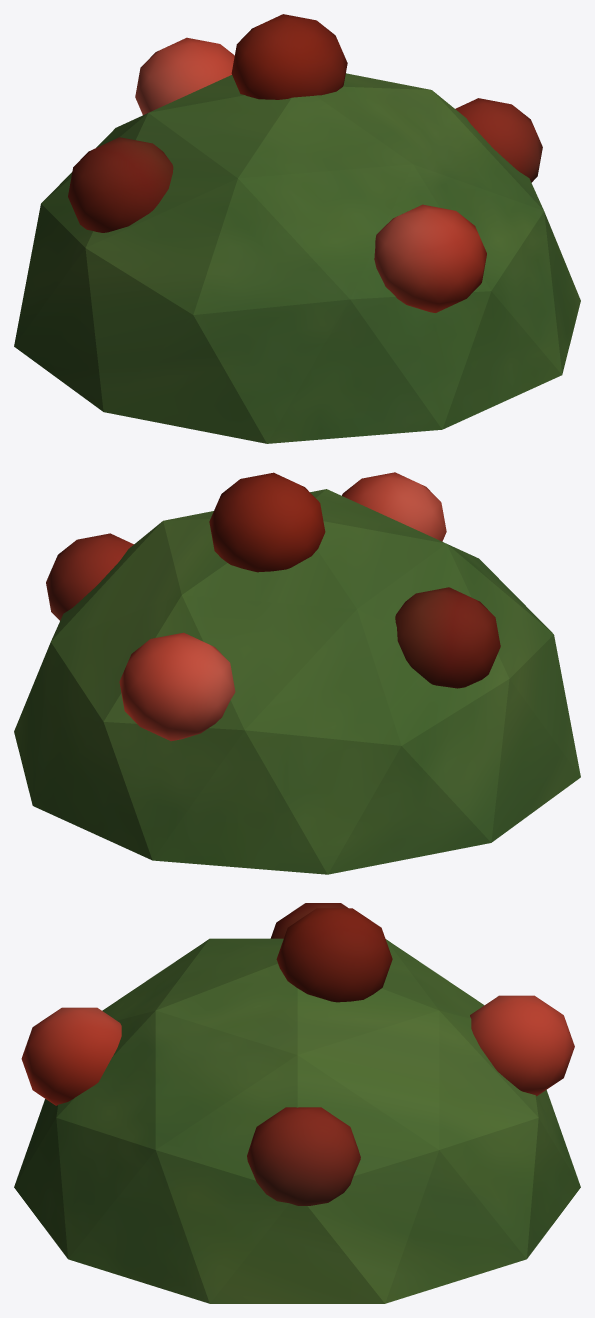
Rendered from elma çalısı.fbx.
3 views of the same model, one above another, from view 1: azimuth 30°, elevation 25°; view 2: azimuth 150°, elevation 25°; view 3: azimuth 270°, elevation 25° (orthographic). The views are drawn at different scales.
Visible parts, largest first — view 1: İkosfer.001; view 2: İkosfer.001; view 3: İkosfer.001.
Part boxes in pixels (<box>): İkosfer.001: <box>14,14,580,443</box>; İkosfer.001: <box>14,472,580,874</box>; İkosfer.001: <box>14,903,580,1303</box>.
Bounding box in the file's own units: 190 × 110 × 200.
Materials: 1 (1 with a texture image).
